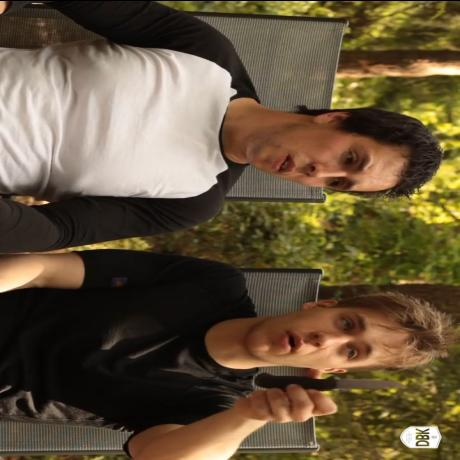1: (0, 1, 437, 244), (4, 248, 450, 460)
weapon: (254, 372, 406, 390)
